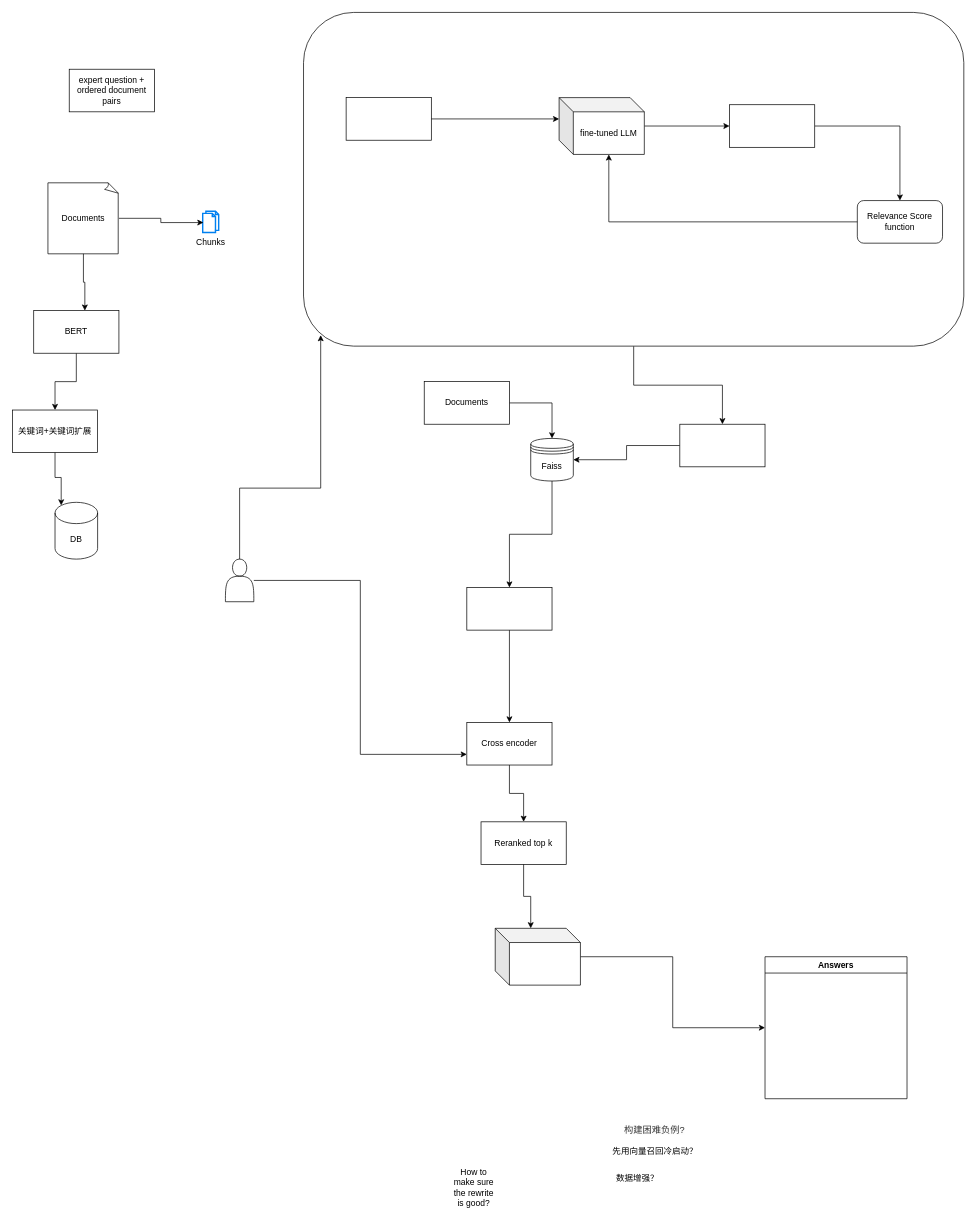
Some shapes in this 976 by 1220 pixel diagram are drawn without their labels. The centre of each missing label's shape, as x and y in pixels:
expert questions: pixel 388 118
LLM: pixel 537 956
Original queries: pixel 239 580
query rewrites: pixel 772 125
Rewrites: pixel 722 445
Top K: pixel 509 608
